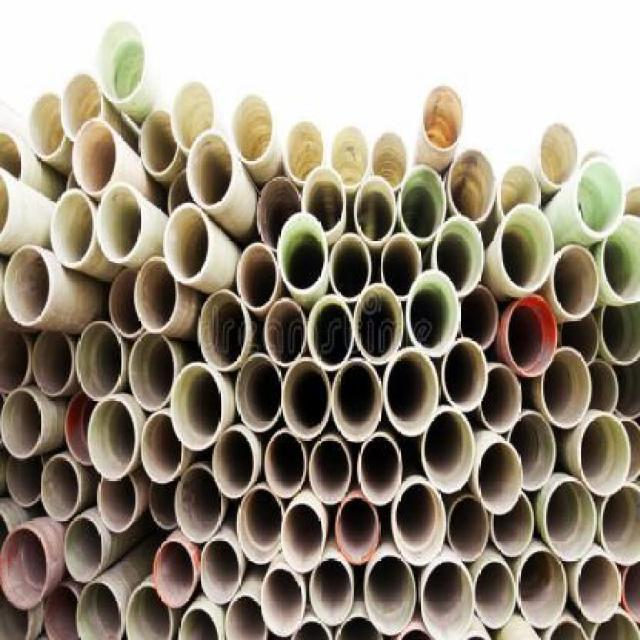pipe: (383, 347, 439, 436), (391, 482, 447, 567), (406, 269, 460, 357), (170, 362, 223, 450), (500, 206, 554, 292), (505, 292, 558, 377), (422, 409, 475, 494), (543, 479, 597, 562), (364, 554, 417, 637), (578, 413, 631, 495), (420, 560, 474, 640), (515, 549, 568, 629), (332, 359, 383, 442), (199, 291, 250, 373), (87, 397, 136, 482), (0, 525, 49, 610), (282, 356, 331, 439), (96, 21, 145, 104), (353, 283, 402, 365), (543, 347, 592, 429), (507, 410, 556, 492), (188, 129, 236, 211), (163, 202, 211, 284), (3, 244, 51, 326), (129, 331, 177, 413), (434, 218, 485, 295), (576, 156, 625, 236), (278, 214, 327, 294), (397, 164, 446, 243), (174, 465, 223, 544), (96, 182, 142, 265), (76, 321, 124, 400), (448, 148, 496, 224), (307, 295, 355, 371), (236, 488, 284, 564), (51, 188, 96, 268), (236, 354, 282, 432), (552, 246, 600, 320), (475, 441, 523, 515), (601, 214, 640, 303), (72, 118, 117, 195), (442, 337, 488, 411), (170, 81, 216, 155), (256, 177, 301, 252), (599, 484, 639, 567), (135, 256, 178, 333), (357, 433, 402, 506), (302, 166, 347, 237), (141, 411, 184, 484), (335, 495, 380, 564), (281, 503, 326, 572), (576, 554, 621, 623), (309, 557, 354, 626), (260, 567, 305, 636), (212, 429, 255, 500), (231, 93, 273, 164), (355, 175, 397, 246), (0, 389, 42, 460), (60, 70, 102, 141), (329, 233, 372, 302), (236, 242, 279, 311), (473, 562, 516, 630), (380, 232, 422, 301), (308, 437, 350, 506), (265, 298, 307, 366), (264, 431, 306, 499), (32, 330, 75, 396), (479, 366, 522, 432), (199, 539, 242, 605), (491, 492, 534, 557), (125, 583, 174, 640), (422, 85, 464, 151), (139, 108, 179, 177), (447, 495, 489, 560), (26, 92, 66, 160), (154, 539, 194, 607), (76, 581, 122, 640), (459, 284, 499, 350), (41, 455, 81, 521), (538, 122, 577, 188), (64, 515, 103, 581), (285, 119, 324, 184), (98, 472, 138, 534), (330, 126, 368, 191), (498, 165, 541, 221), (600, 306, 640, 365), (370, 133, 408, 193), (6, 451, 43, 507), (44, 583, 80, 640), (0, 330, 32, 394), (224, 595, 267, 640), (589, 359, 618, 413), (0, 129, 25, 191), (177, 607, 220, 640)
